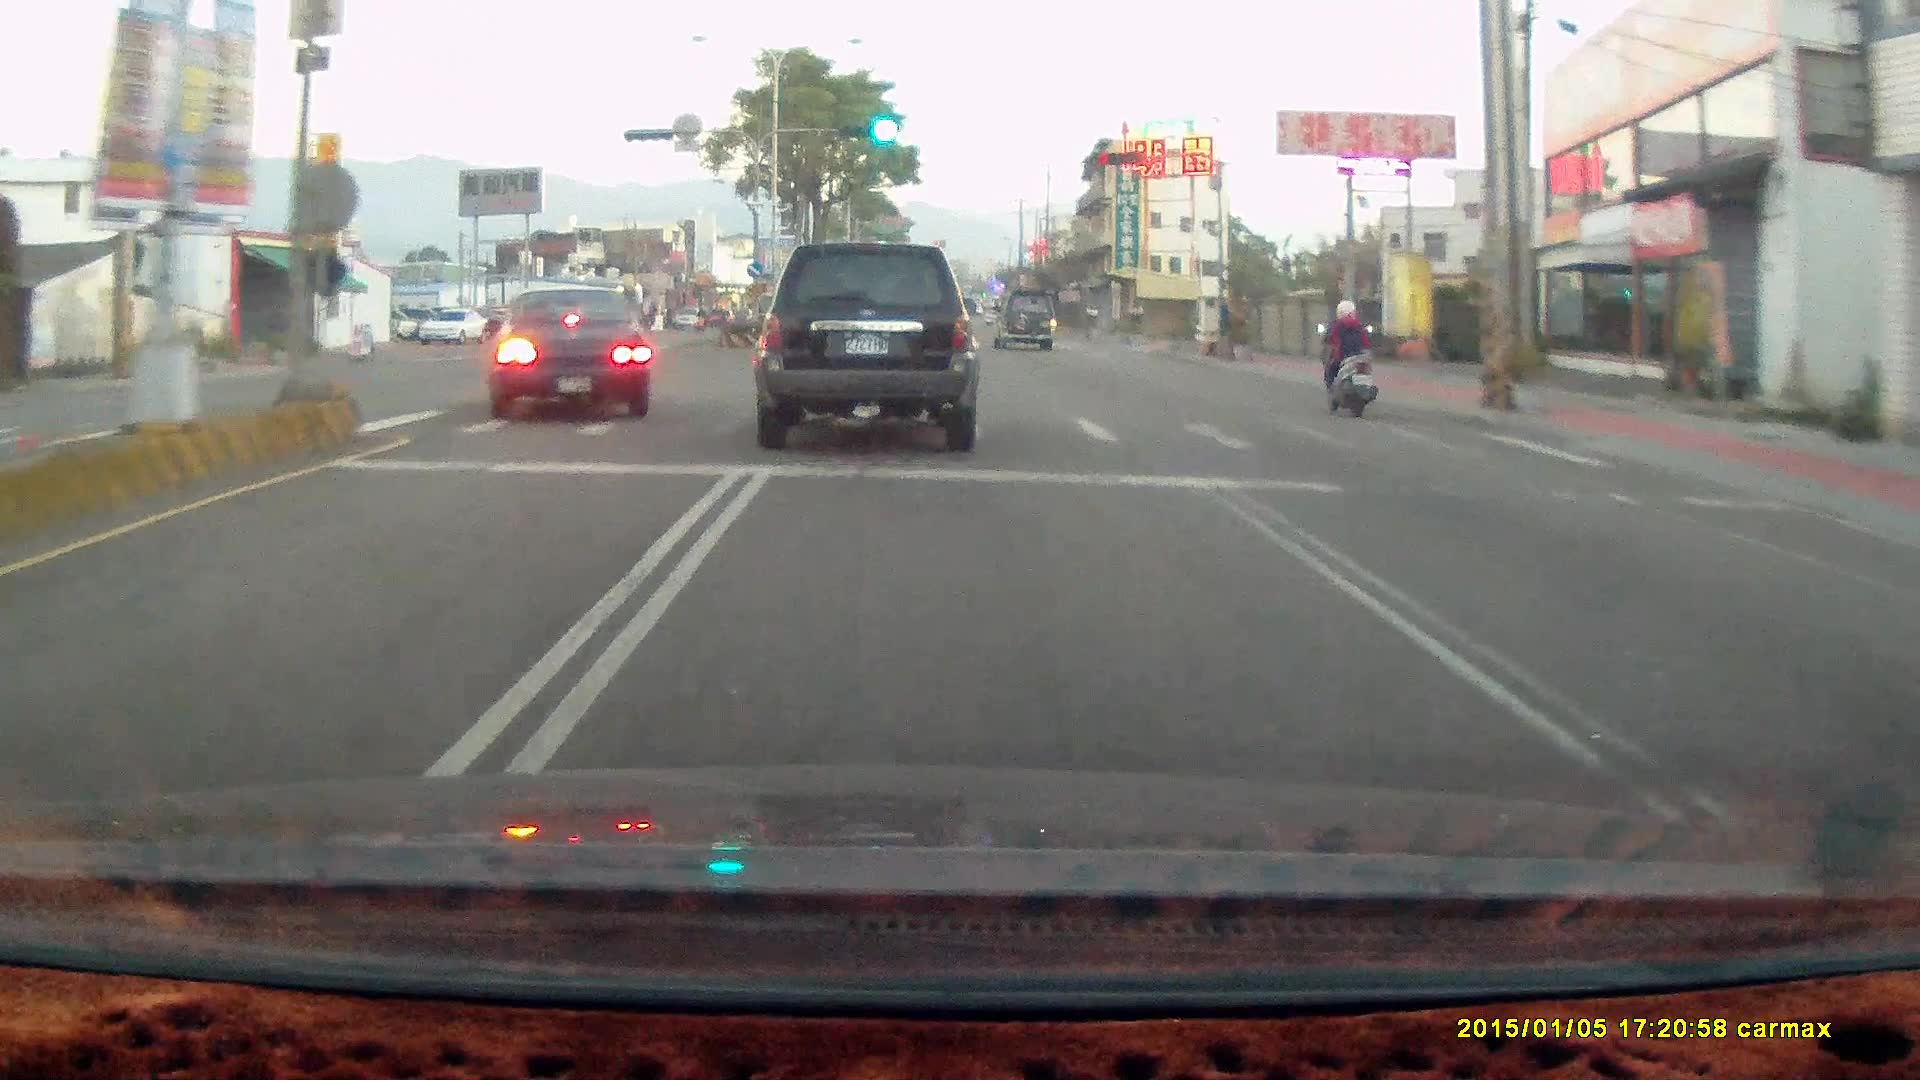rider: (1307, 291, 1391, 427), (1313, 296, 1377, 417)
vehicle: (752, 241, 978, 451), (757, 240, 983, 450), (483, 284, 652, 422), (481, 288, 650, 420), (992, 289, 1058, 356), (990, 279, 1055, 342), (416, 308, 489, 344)
